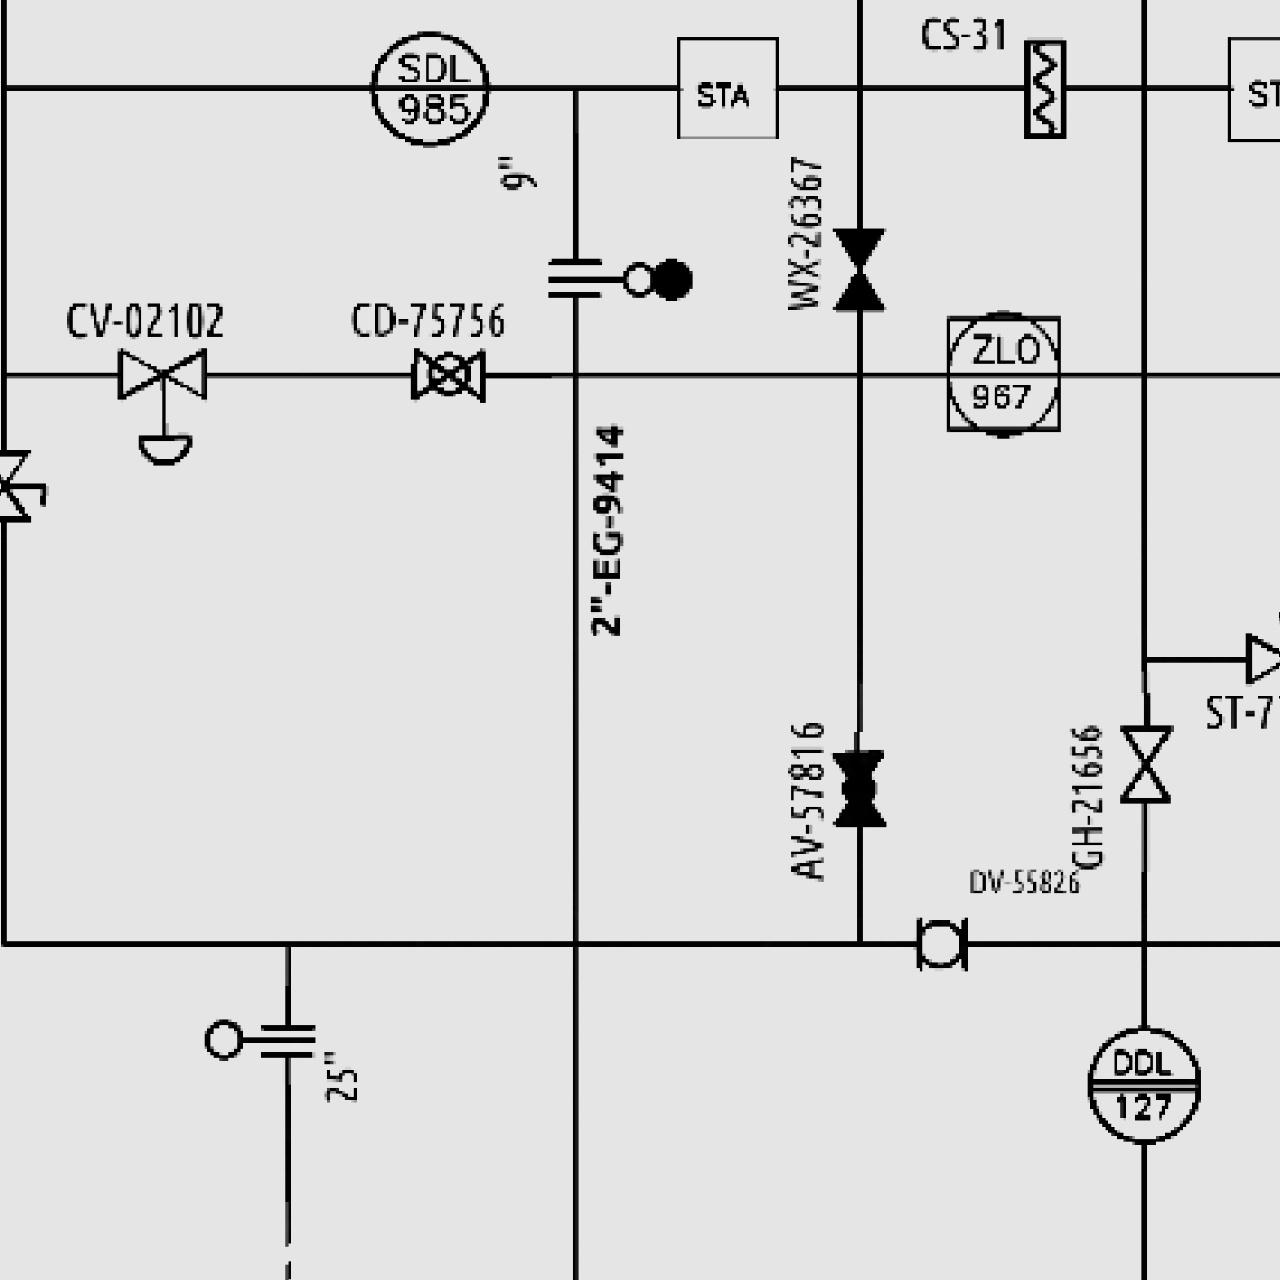Control-Panel: (1081, 1021, 1206, 1148)
